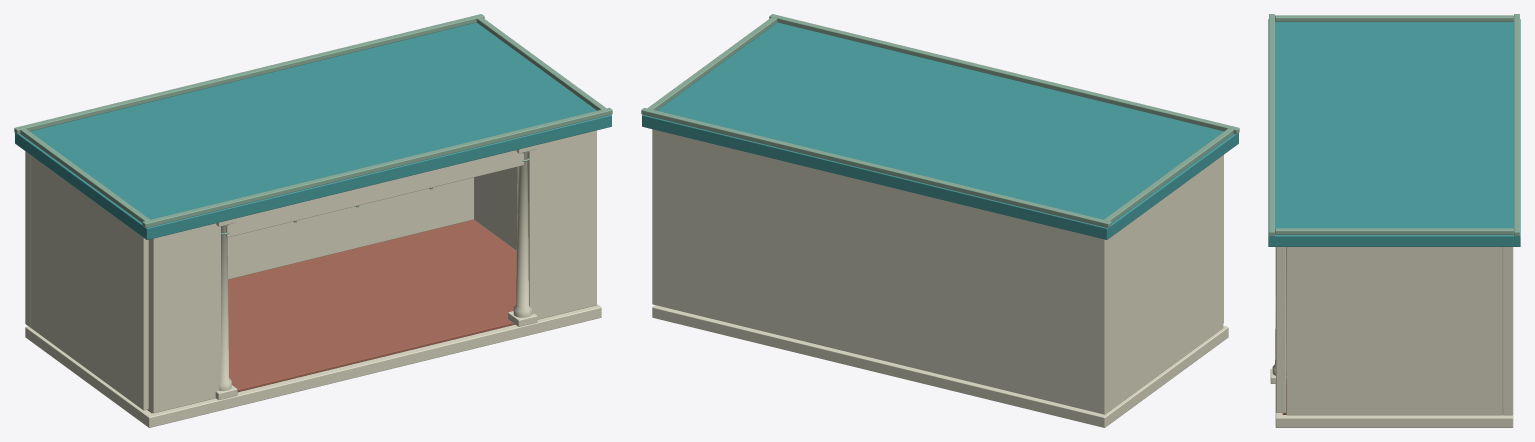
File: enchanted-harp-garden-and-music-sanctuary-roofed-recit-f1fed741__30390.glb
3 renders of one model, left to right at view 1: azimuth 30°, elevation 25°; view 2: azimuth 150°, elevation 25°; view 3: azimuth 270°, elevation 25°, orthographic. The views are drawn at different scales.
Parts seen in each view (by area): view 1: roofed-recital-pavilion; view 2: roofed-recital-pavilion; view 3: roofed-recital-pavilion.
Boxes of the visible parts, x1,y1,x2,y2 form: roofed-recital-pavilion: (14, 14, 612, 427); roofed-recital-pavilion: (641, 14, 1239, 427); roofed-recital-pavilion: (1268, 14, 1520, 427).
Bounding box in the file's own units: 8.26 × 3.52 × 4.04.
